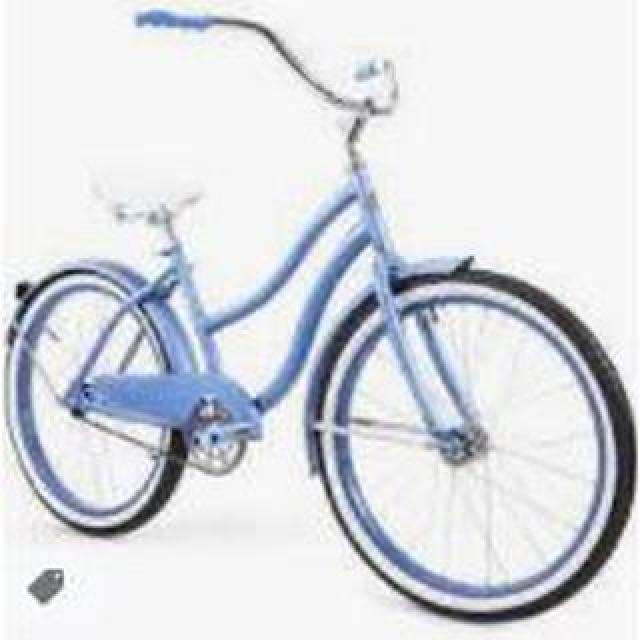Person: (4, 11, 636, 629)
